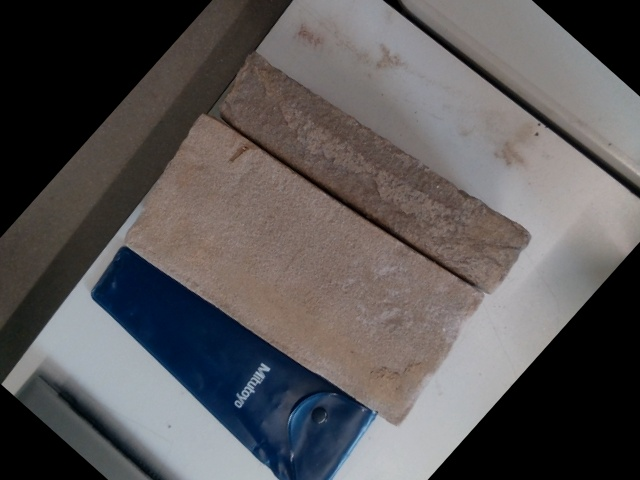brick: (123, 116, 480, 421)
